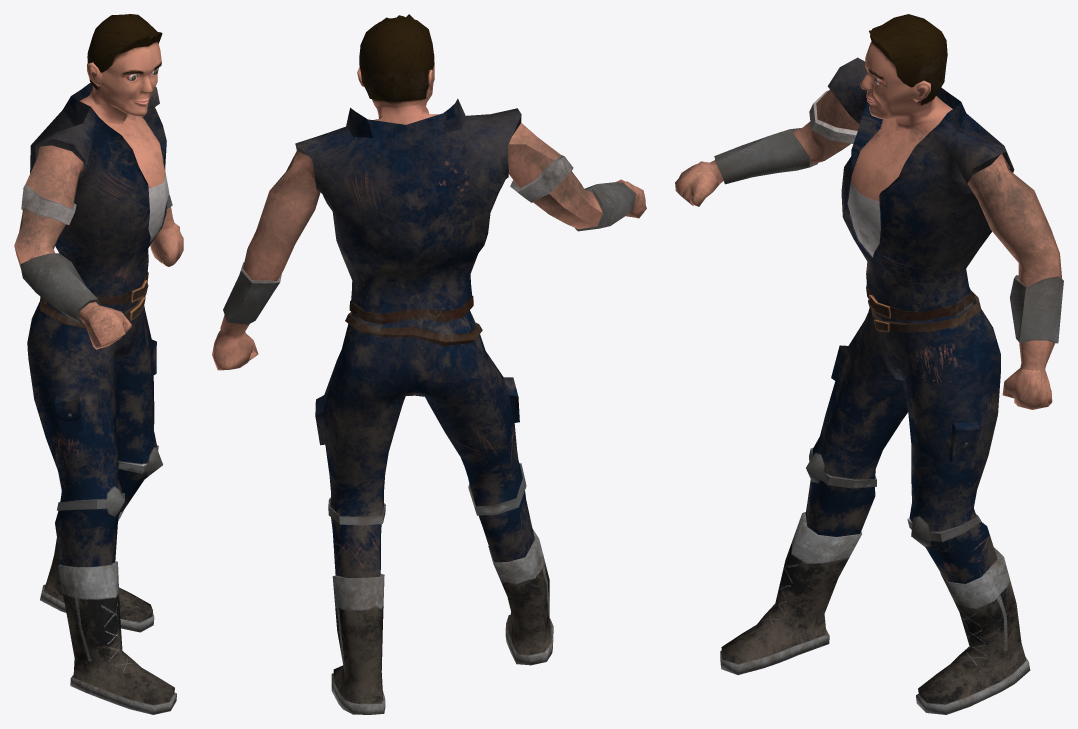
The model's file is Anim_abrir_puerta_ok_jugador.0031.obj.
3 views of the same model, side by side, from view 1: azimuth 30°, elevation 25°; view 2: azimuth 150°, elevation 25°; view 3: azimuth 270°, elevation 25° (orthographic). The views are drawn at different scales.
Visible parts, largest first — view 1: polySurface1; view 2: polySurface1; view 3: polySurface1.
Part boxes in pixels (x1,y1,x2,y2): polySurface1: (14,14,183,714); polySurface1: (212,14,646,714); polySurface1: (675,14,1063,714).
Size of the model in its own units: 4.21 by 9.5 by 4.97.
